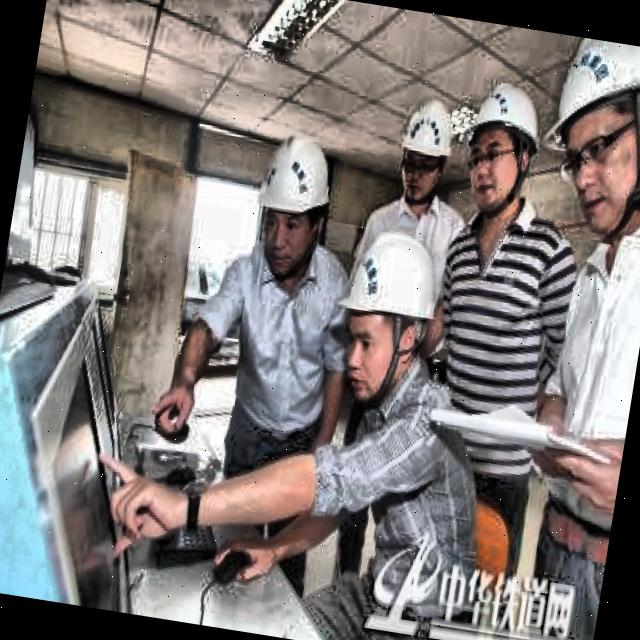helmet: (507, 31, 640, 267), (319, 210, 468, 412), (241, 120, 347, 288), (452, 72, 556, 232), (386, 93, 462, 211)
